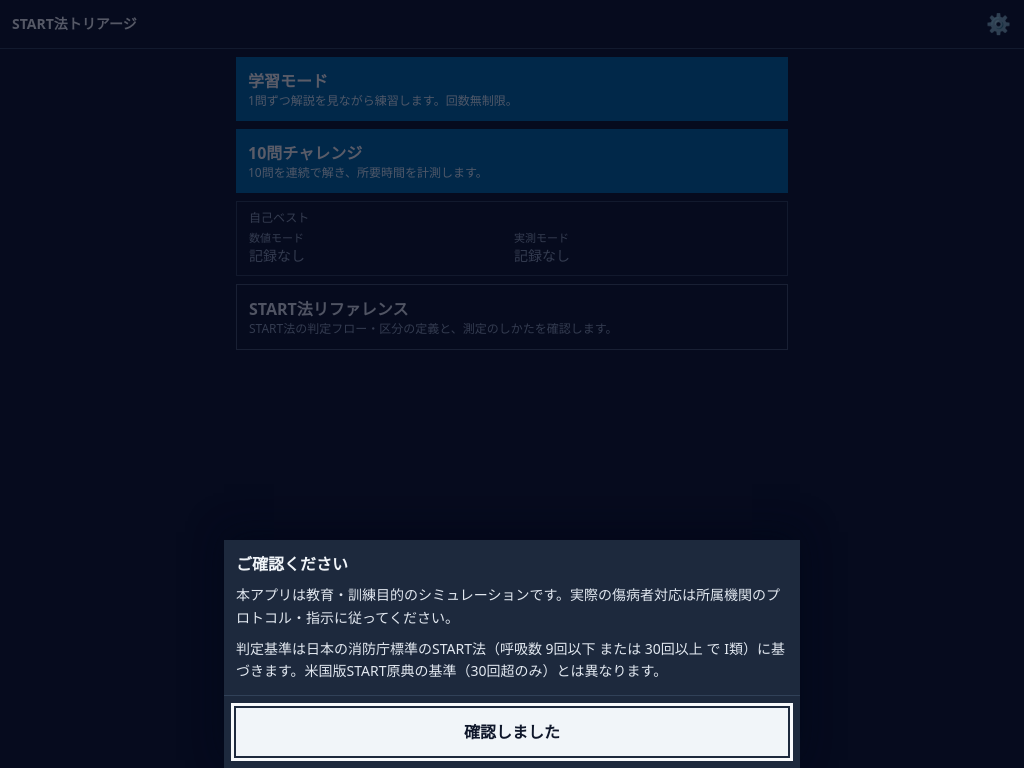
Test: 言語切替 (docs/I18N.md §4) › English を押すと表示が英語になり、html@lang が追従する
Check: the heading "START法トリアージ" is shown, box x1=12 y1=14 x2=137 y2=33
Click the button "確認しました" at (512, 732), box x1=236 y1=708 x2=788 y2=756
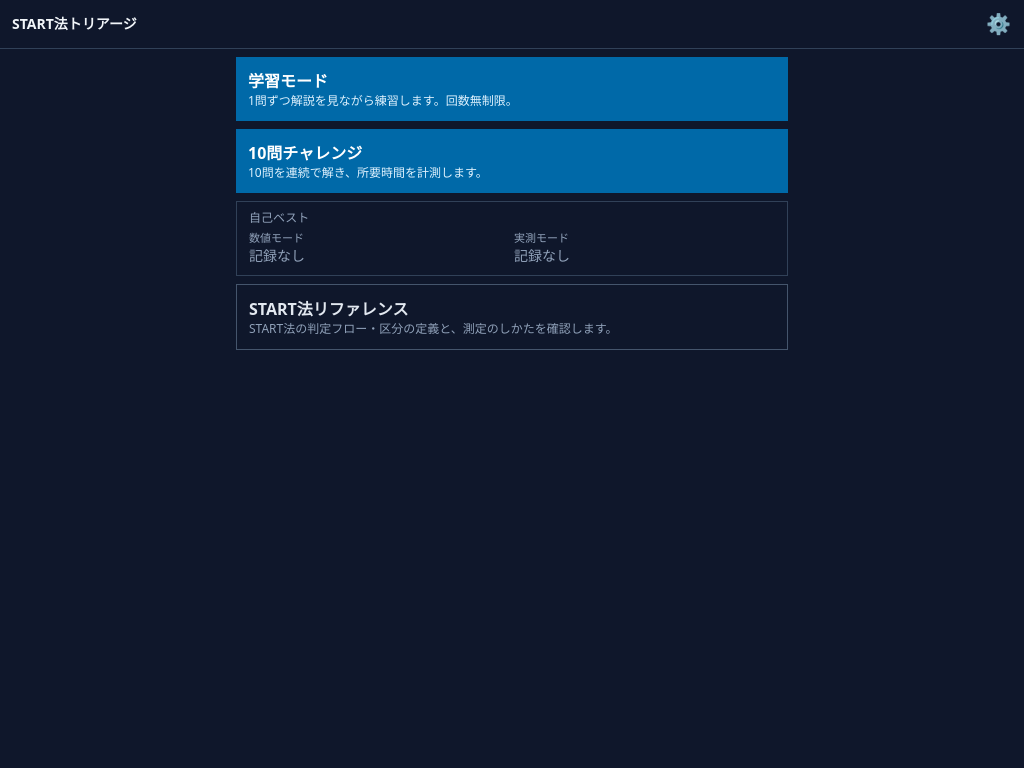
Click the button named "設定を開く" at (998, 24), box x1=980 y1=6 x2=1016 y2=42
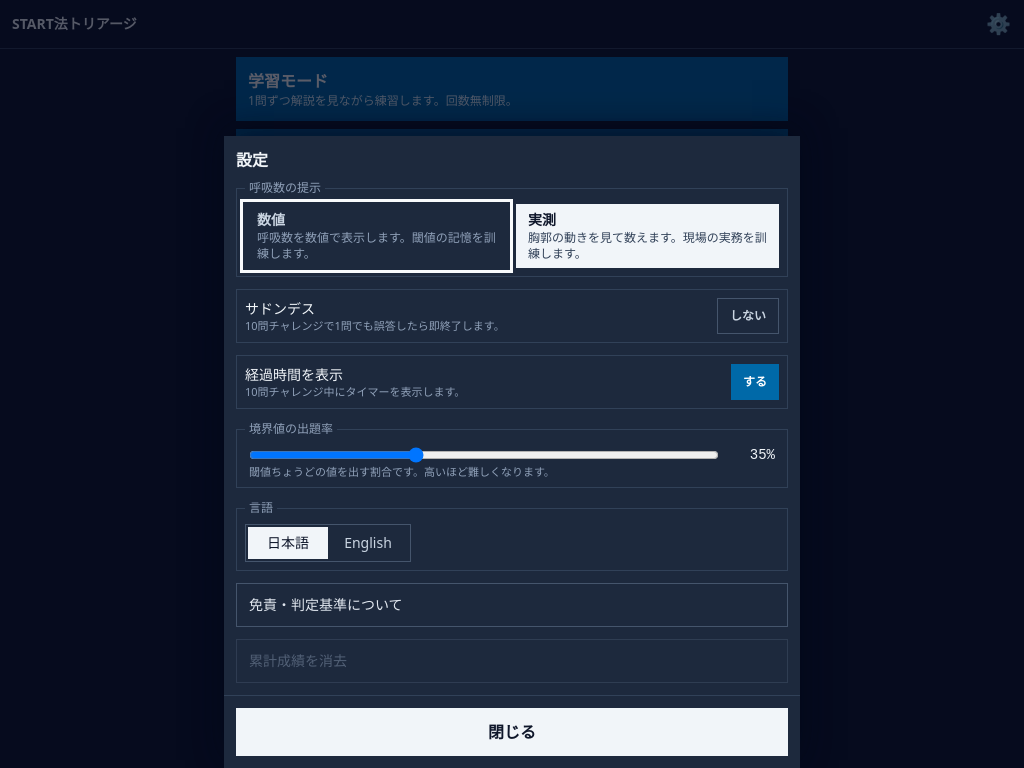
Click the button "English" at (368, 543), box x1=328 y1=527 x2=408 y2=559
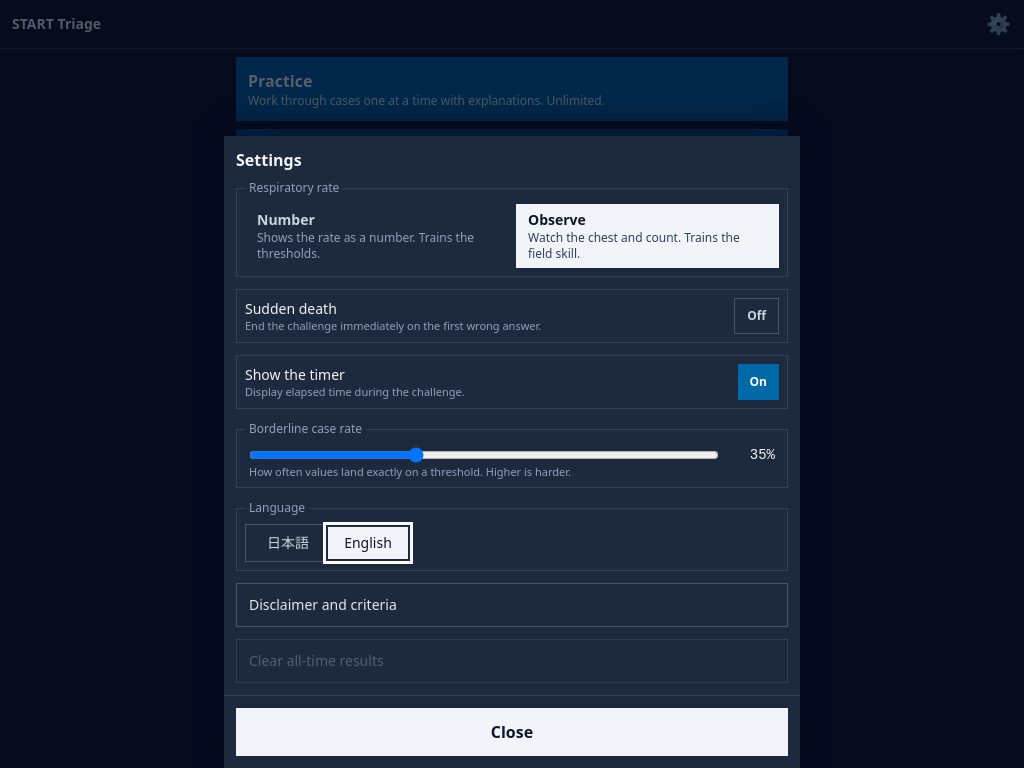
Check: the heading "START Triage" is shown, box x1=12 y1=14 x2=101 y2=33
